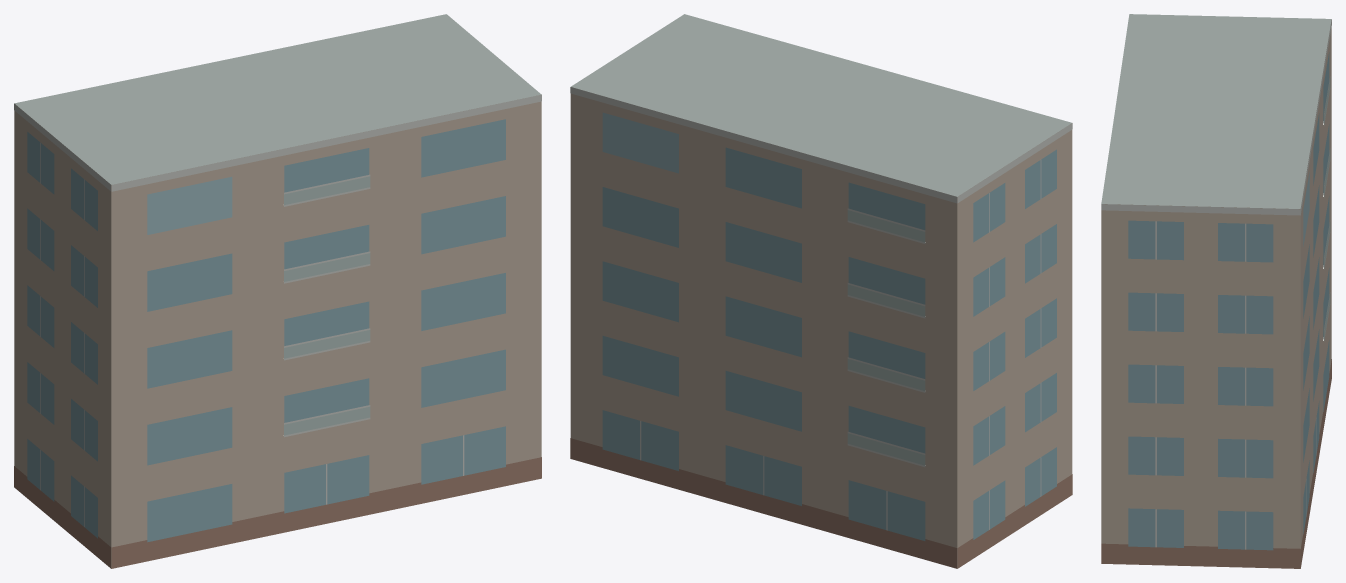
File: survey-upis-32985479.glb
3 views of the same model, side by side, from view 1: azimuth 30°, elevation 25°; view 2: azimuth 150°, elevation 25°; view 3: azimuth 270°, elevation 25° (orthographic). The views are drawn at different scales.
Visible parts, largest first — view 1: survey-upis-32985479.tmp; view 2: survey-upis-32985479.tmp; view 3: survey-upis-32985479.tmp.
Part boxes in pixels (x1,y1,x2,y2): survey-upis-32985479.tmp: (14, 14, 541, 568); survey-upis-32985479.tmp: (570, 14, 1072, 568); survey-upis-32985479.tmp: (1101, 14, 1331, 568).
Bounding box in the file's own units: 15.94 × 13.7 × 7.97.
